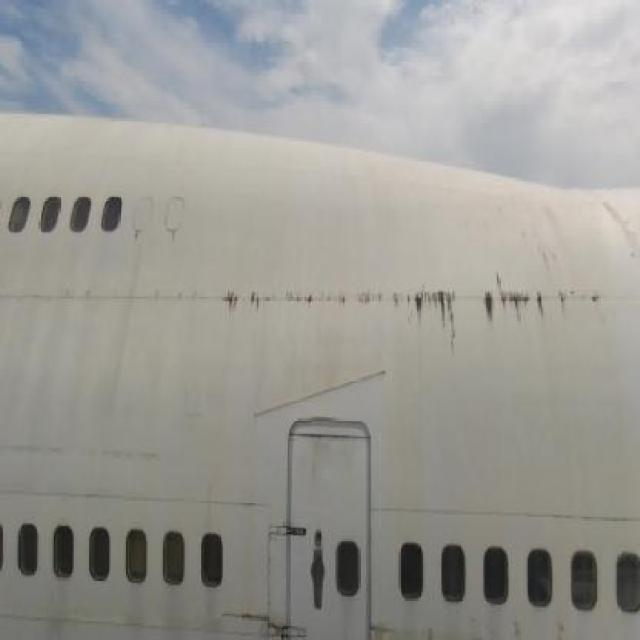Missing-Rivet: (265, 535, 278, 607)
Rust: (215, 276, 610, 346), (510, 209, 567, 285), (236, 604, 298, 640), (245, 461, 260, 607), (130, 227, 142, 242), (170, 228, 176, 246)
Scartch: (2, 429, 202, 478), (392, 615, 610, 639), (307, 437, 365, 489), (601, 195, 640, 261)
